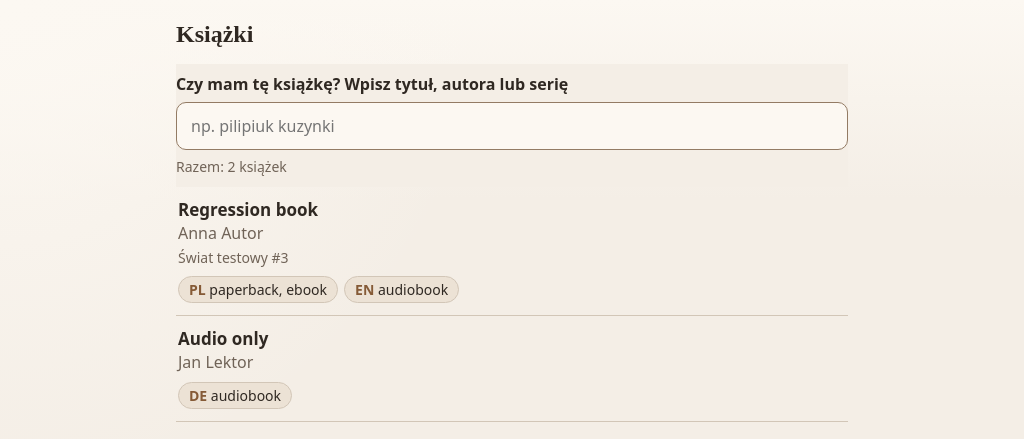
Test: Books page › finds a book by language code, language name or format
In the search field: (512, 126) left=176, top=102, right=848, bottom=150, type "en audiobook"
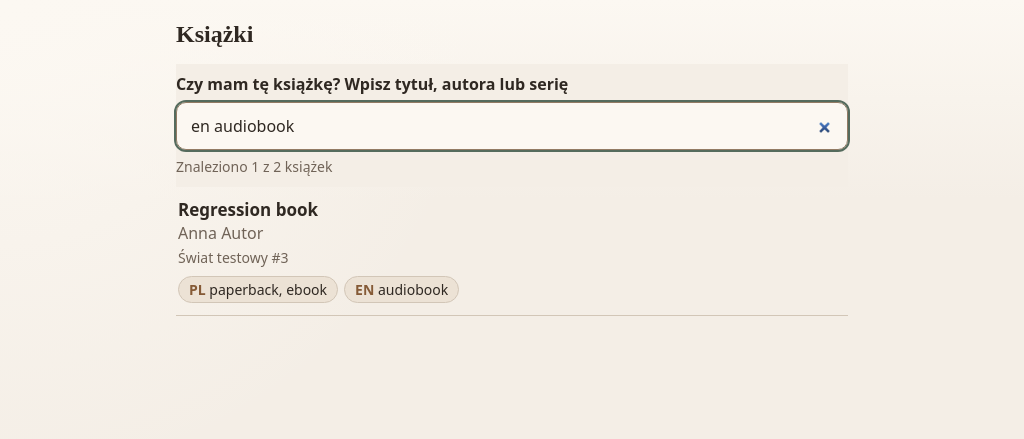
Expected: the text "Regression book" is shown, left=178, top=198, right=318, bottom=221
Now the text "Audio only" is gone
Replace the text in the search field with "german": (512, 126) left=176, top=102, right=848, bottom=150
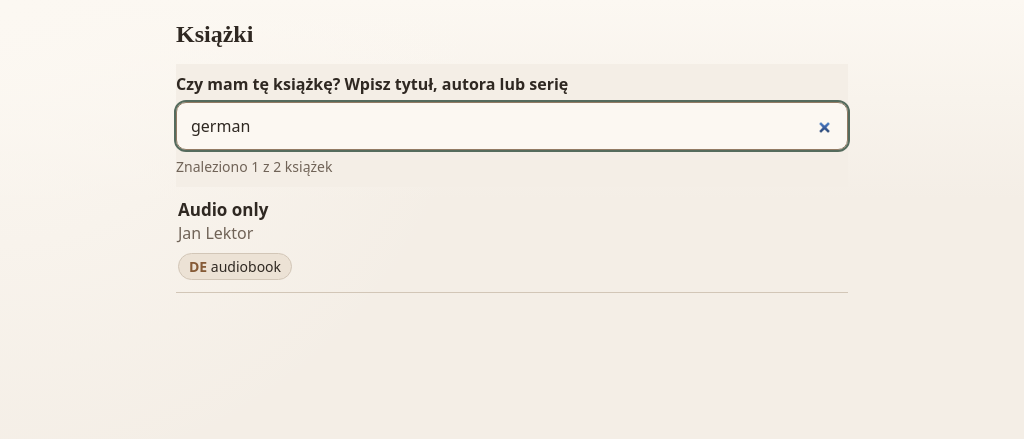
Now the text "Audio only" is shown, box left=178, top=198, right=268, bottom=221
Now the text "Regression book" is gone
